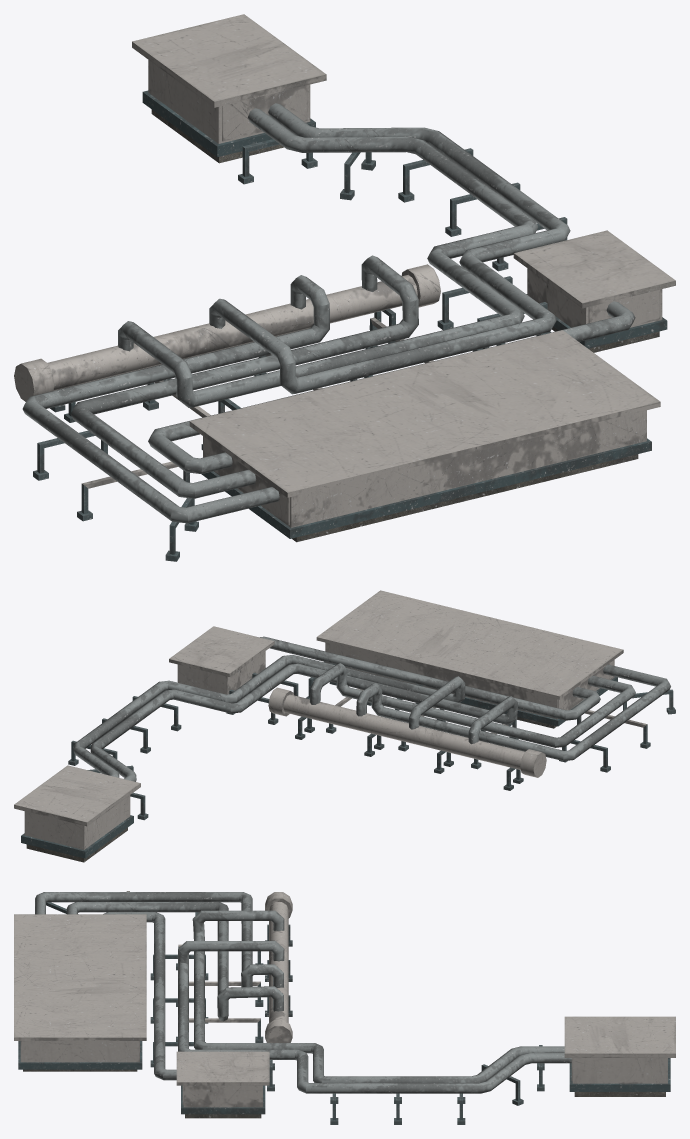
The model's file is jctRoofEquipPipeA.fbx.
3 renders of one model, top to bottom at view 1: azimuth 30°, elevation 25°; view 2: azimuth 150°, elevation 25°; view 3: azimuth 270°, elevation 25°, orthographic. The views are drawn at different scales.
Parts seen in each view (by area): view 1: jctRoofEquipPipeA; view 2: jctRoofEquipPipeA; view 3: jctRoofEquipPipeA.
Boxes of the visible parts, bbox=[...] form: jctRoofEquipPipeA: bbox=[14, 14, 675, 561]; jctRoofEquipPipeA: bbox=[14, 590, 675, 862]; jctRoofEquipPipeA: bbox=[14, 891, 675, 1124].
Bounding box in the file's own units: 1262 × 163 × 1667.
